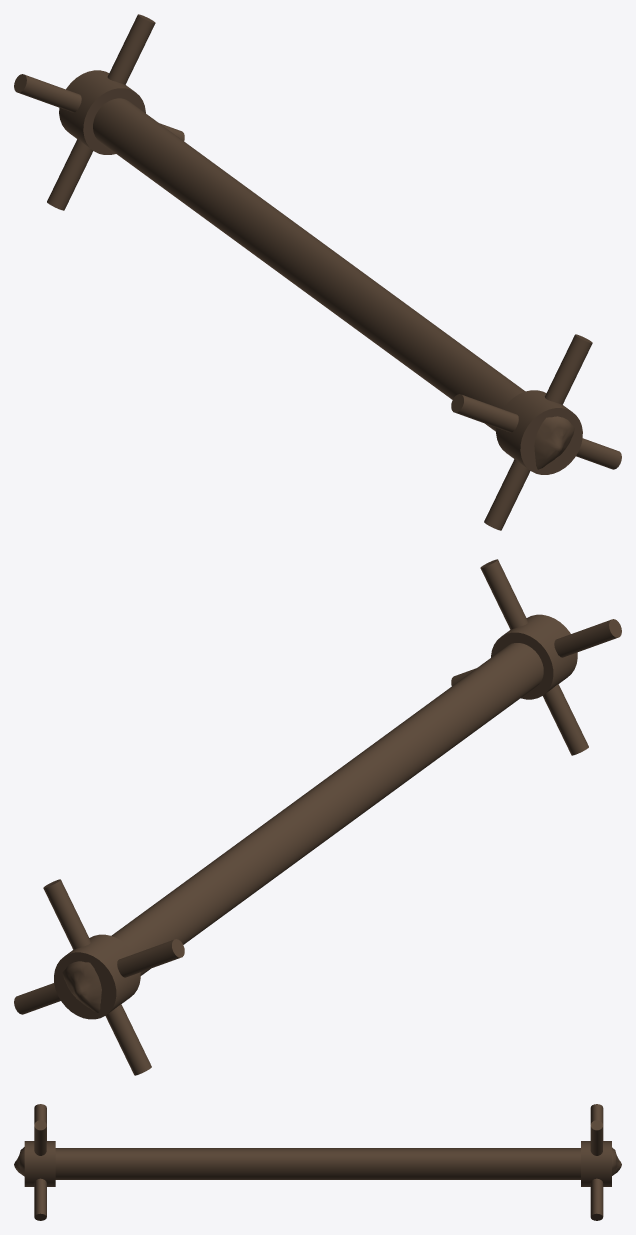
File: catapult_log_rotation_part.obj
3 renders of one model, top to bottom at view 1: azimuth 30°, elevation 25°; view 2: azimuth 150°, elevation 25°; view 3: azimuth 270°, elevation 25°, orthographic. The views are drawn at different scales.
Parts seen in each view (by area): view 1: catapult_log_rotation_part; view 2: catapult_log_rotation_part; view 3: catapult_log_rotation_part.
Boxes of the visible parts, bbox=[...] form: catapult_log_rotation_part: bbox=[14, 14, 621, 530]; catapult_log_rotation_part: bbox=[14, 559, 621, 1075]; catapult_log_rotation_part: bbox=[14, 1104, 621, 1220].
Bounding box in the file's own units: 782 × 781 × 3888.
